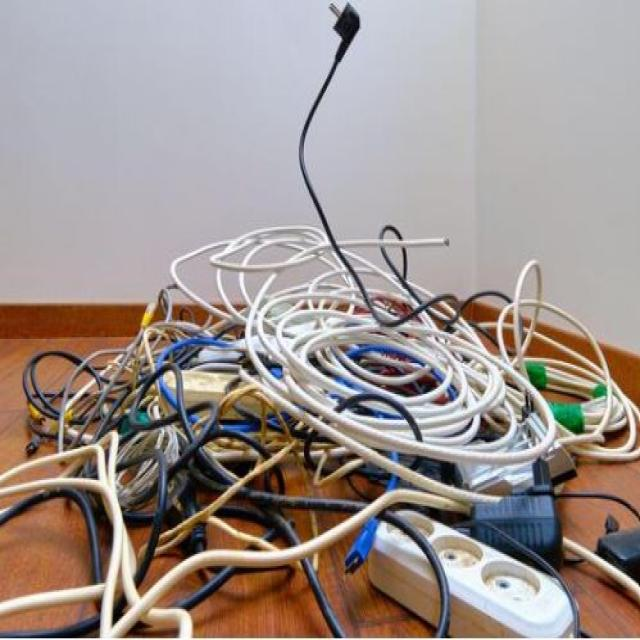electronic: (1, 3, 630, 640)
